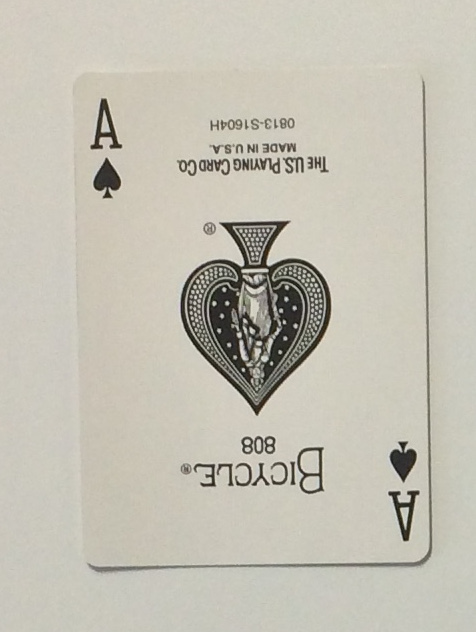A: (79, 83, 132, 158)
S: (84, 157, 134, 206)
